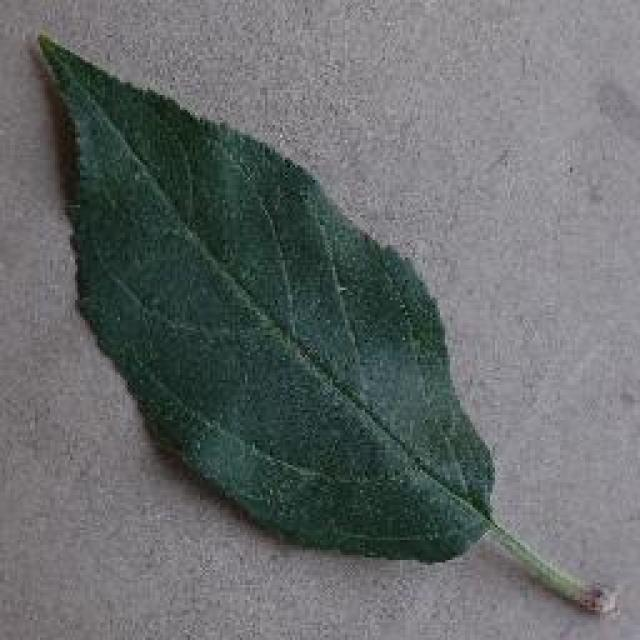apple healthy: (32, 28, 618, 618)
